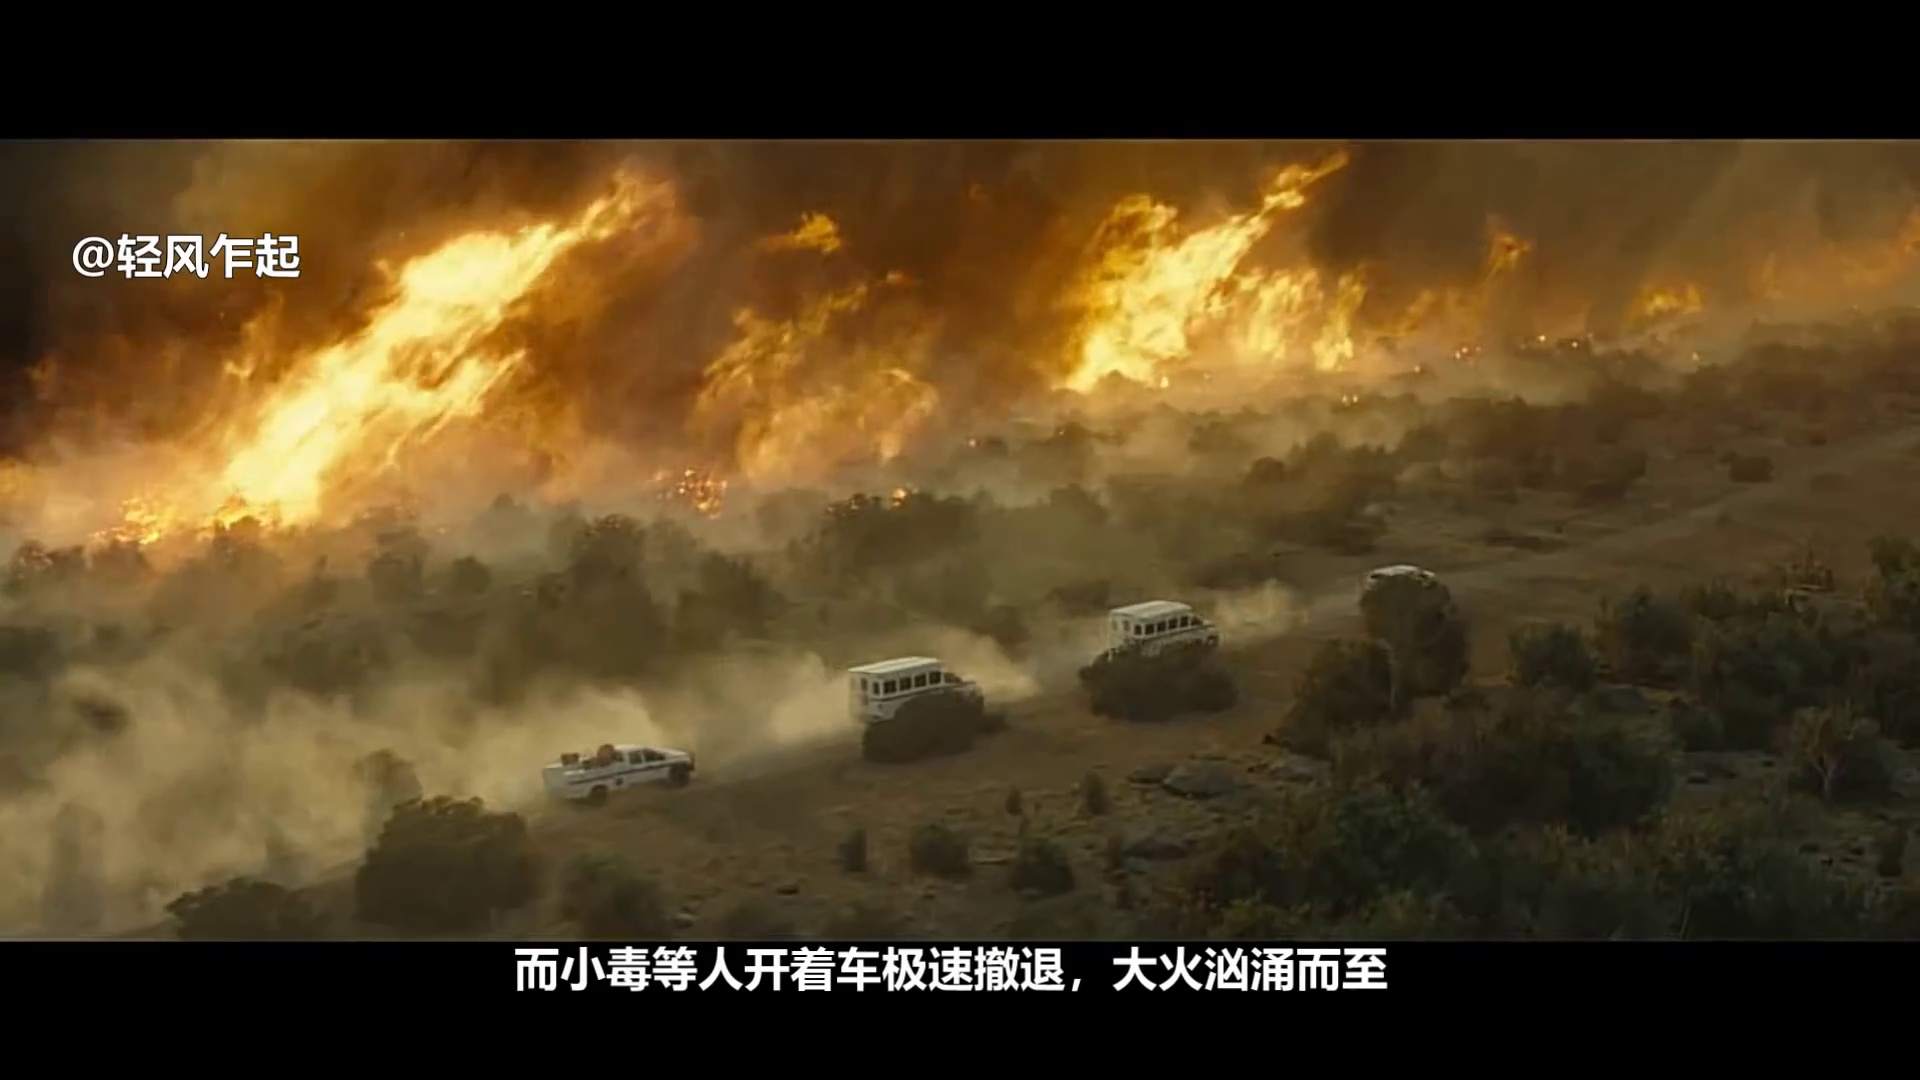fire: (207, 222, 567, 527), (1054, 167, 1378, 396)
